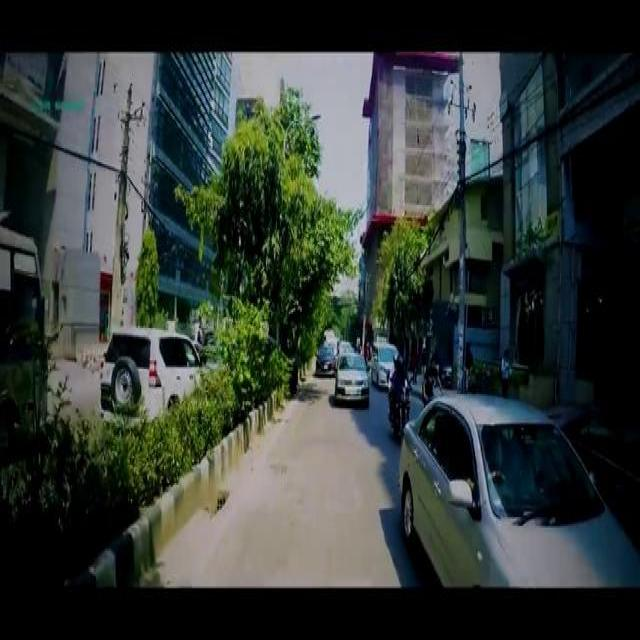10: (388, 380, 410, 438)
15: (98, 324, 204, 424)
5: (398, 387, 638, 583), (333, 350, 369, 404), (315, 342, 335, 373)
9: (369, 340, 397, 386)
Truck: (0, 224, 45, 450)
